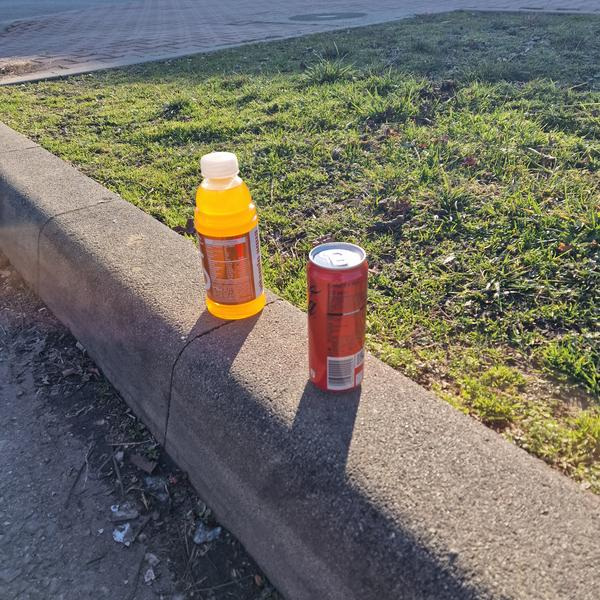can: (307, 239, 369, 395)
plastic_bottle: (188, 147, 269, 325)
